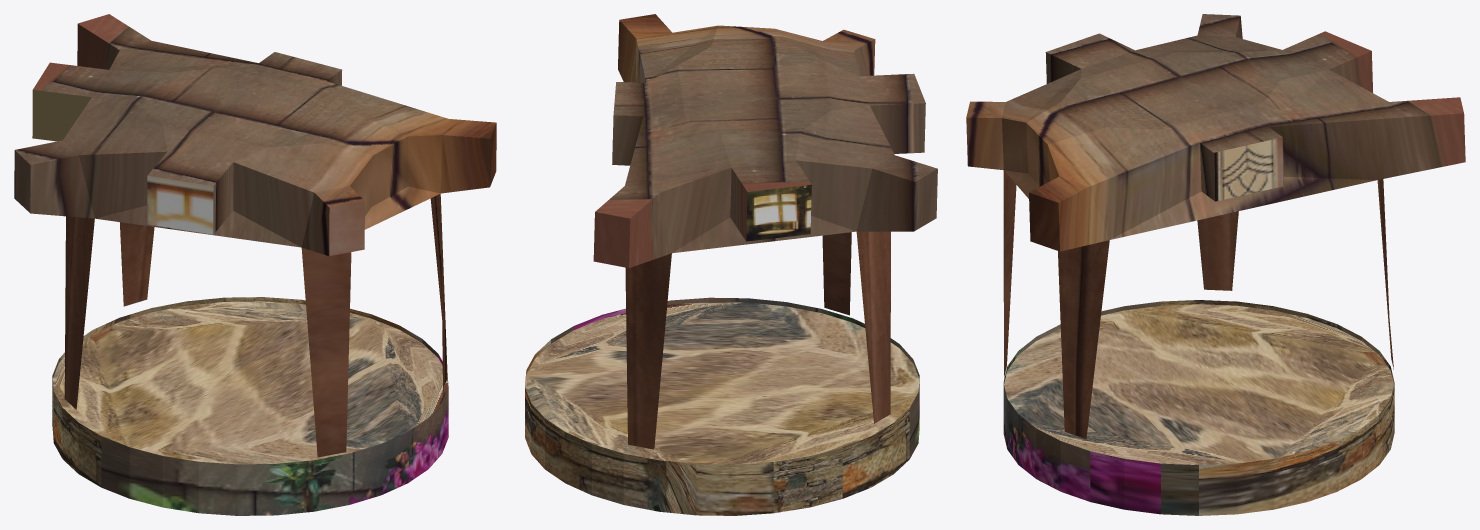
File: gazebo-murobaixo.glb
The picture shows the model from 3 angles, left to right: view 1: azimuth 30°, elevation 25°; view 2: azimuth 150°, elevation 25°; view 3: azimuth 270°, elevation 25°; orthographic projection.
Parts seen in each view (by area): view 1: Circle; view 2: Circle; view 3: Circle.
Boxes of the visible parts, x1,y1,x2,y2 form: Circle: (14, 14, 496, 515); Circle: (525, 14, 937, 515); Circle: (966, 14, 1465, 515).
Size of the model in its own units: 15.47 by 12.74 by 17.26.
1 material, 1 textured.
